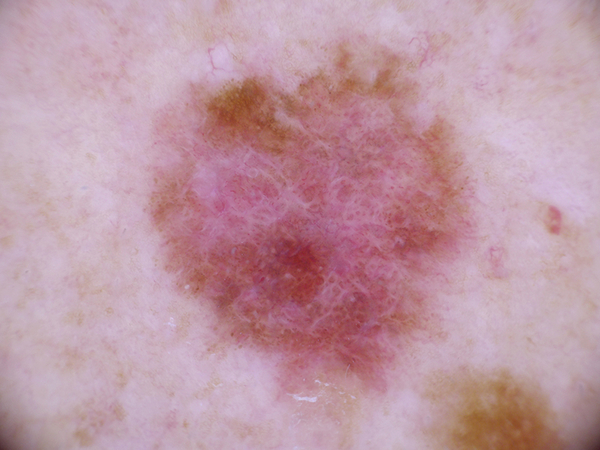Detected Lesion: (146, 62, 474, 391)
